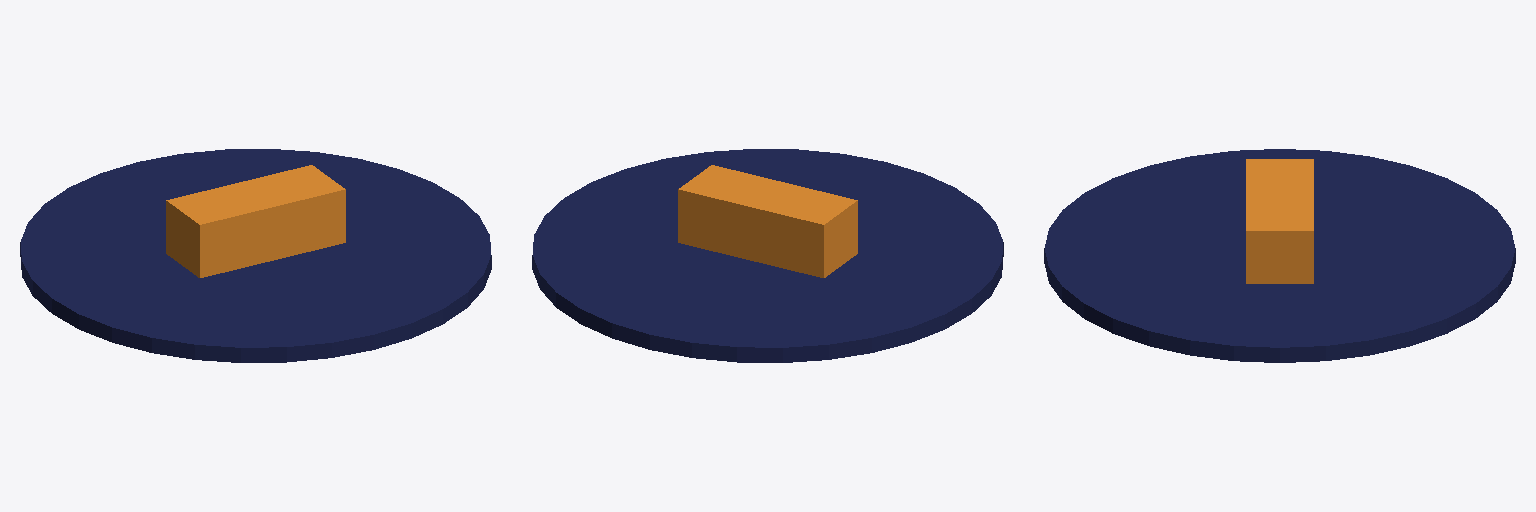
robot.urdf — bowl.urdf:
<?xml version="0.0" ?>
<robot name="bowl.urdf">

  <material name="yellow">
    <color rgba="1 1 0.4 1"/>
  </material>
  <material name="red">
    <color rgba="1 0 0 1"/>
  </material>
  <material name="blue">
    <color rgba=".17 .20 .38 1"/>
  </material>
  <material name="teal">
    <color rgba="0 .5 .5 1"/>
  </material>
  <material name="orange">
    <color rgba=".93 .6 .23 1"/>
  </material>

  <link name="world"/>

  <link name="base">
<!--     <contact>
      <lateral_friction value="1.0"/>
      <rolling_friction value="0.0"/>
      <contact_cfm value="0.0"/>
      <contact_erp value="1.0"/>
    </contact> -->
    <inertial>
      <origin rpy="0 0 0" xyz="0.0 0.0 0.0"/>
       <mass value=".1"/>
       <inertia ixx="1" ixy="0" ixz="0" iyy="1" iyz="0" izz="1"/>
    </inertial>
    <visual>
      <origin rpy="0 0 0" xyz="0 0 0"/>
      <geometry>
        <!-- <box size="1 1 1"/> -->
        <!-- <mesh filename="roboverse/envs/assets/objects/bowl/base.dae" scale=".7 .7 .7"/> -->
        <mesh filename="roboverse_assets/objects/bowl/base.dae" scale=".7 .7 .7"/>
      </geometry>
       <material name="teal"/>
    </visual>
    <collision>
      <origin rpy="0 0 0" xyz="0 0 -.3"/>
      <geometry>
	 			<box size="1.2 1.2 .1"/>
      </geometry>
    </collision>
    <collision>
      <!-- right -->
      <origin rpy="0 0 0" xyz="0 -.45 0"/>
      <geometry>
        <box size="1 .05 .5"/>
      </geometry>
    </collision>
    <collision>
      <!-- left -->
      <origin rpy="0 0 0" xyz="0 .45 0"/>
      <geometry>
        <box size="1 .05 .5"/>
      </geometry>
    </collision>
    <collision>
      <!-- front -->
      <origin rpy="0 0 0" xyz=".45 0 0"/>
      <geometry>
        <box size=".05 1 .5"/>
      </geometry>
    </collision>
    <collision>
      <!-- back -->
      <origin rpy="0 0 0" xyz="-.45 0 0"/>
      <geometry>
        <box size=".05 1 .5"/>
      </geometry>
    </collision>
  </link>

  <link name="lid">
    <lateral_friction value="1.0"/>
    <rolling_friction value="0.0"/>
    <contact_cfm value="0.0"/>
    <contact_erp value="1.0"/>
    <inertial>
      <origin rpy="0 0 0" xyz="0.0 0.0 0.0"/>
       <mass value=".25"/>
       <inertia ixx="1" ixy="0" ixz="0" iyy="1" iyz="0" izz="1"/>
    </inertial>
    <visual>
      <origin rpy="0 0 0" xyz="0 0 0"/>
      <geometry>
        <cylinder radius="0.7" length=".05"/>
      </geometry>
       <material name="blue"/>
    </visual>
    <collision>
      <origin rpy="0 0 0" xyz="0 0 0"/>
      <geometry>
        <cylinder radius="0.7" length=".05"/>
      </geometry>
    </collision>
  </link>

  <link name="handle">
    <lateral_friction value="1.0"/>
    <rolling_friction value="0.0"/>
    <contact_cfm value="0.0"/>
    <contact_erp value="1.0"/>
    <inertial>
      <origin rpy="0 0 0" xyz="0.0 0.0 0.0"/>
       <mass value=".1"/>
       <inertia ixx="1" ixy="0" ixz="0" iyy="1" iyz="0" izz="1"/>
    </inertial>
    <visual>
      <origin rpy="0 0 0" xyz="0 0 0"/>
      <geometry>
        <box size="0.5 0.2 .2"/>
      </geometry>
       <material name="orange"/>
    </visual>
    <collision>
      <origin rpy="0 0 0" xyz="0 0 0"/>
      <geometry>
        <box size="0.5 0.2 .2"/>
      </geometry>
    </collision>
  </link>

  <joint name="base_joint" type="fixed">
    <parent link="world"/>
    <child link="base"/>
  </joint>

  <joint name="lid_joint" type="prismatic">
    <origin rpy="0 0 0" xyz="0 0 0.35"/>
    <parent link="base"/>
    <child link="lid"/>
    <axis xyz="0 1 0"/>
    <limit effort="100" lower="0" upper="1" velocity="100"/>
  </joint>

  <joint name="handle_joint" type="fixed">
    <origin rpy="0 0 0" xyz="0 0 0.1"/>
    <parent link="lid"/>
    <child link="handle"/>
  </joint>

</robot>

--- Facts derived from the render (not from the file) ---
Views: 3 orthographic renders of the robot side by side, from view 1: azimuth 30°, elevation 25°; view 2: azimuth 150°, elevation 25°; view 3: azimuth 270°, elevation 25°.
Robot: bowl.urdf — 4 links, 3 joints (1 prismatic, 2 fixed); root link world; default pose: all joints at 0.
Visible links, largest first — view 1: lid, handle; view 2: lid, handle; view 3: lid, handle.
Link boxes in pixels (x1=…): lid: x1=20, y1=149, x2=491, y2=362; handle: x1=166, y1=165, x2=345, y2=277; lid: x1=532, y1=149, x2=1003, y2=362; handle: x1=678, y1=165, x2=857, y2=277; lid: x1=1044, y1=149, x2=1515, y2=362; handle: x1=1246, y1=159, x2=1313, y2=283.
Bounding box of the posed robot: 1.4 × 1.4 × 0.225 m (x, y, z).
Meshes: 1 distinct files referenced, 0 mesh visuals loaded (none loaded); not drawn: 1 (reference not matched to a file when rendering).